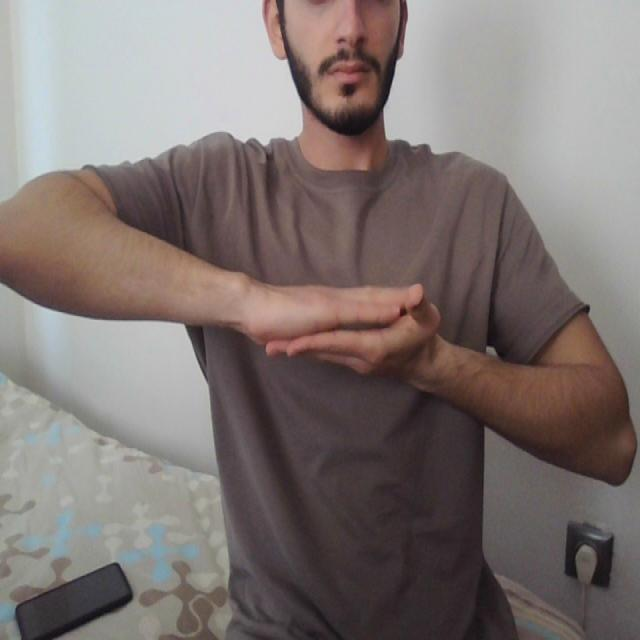Arkadas: (198, 244, 509, 418)
